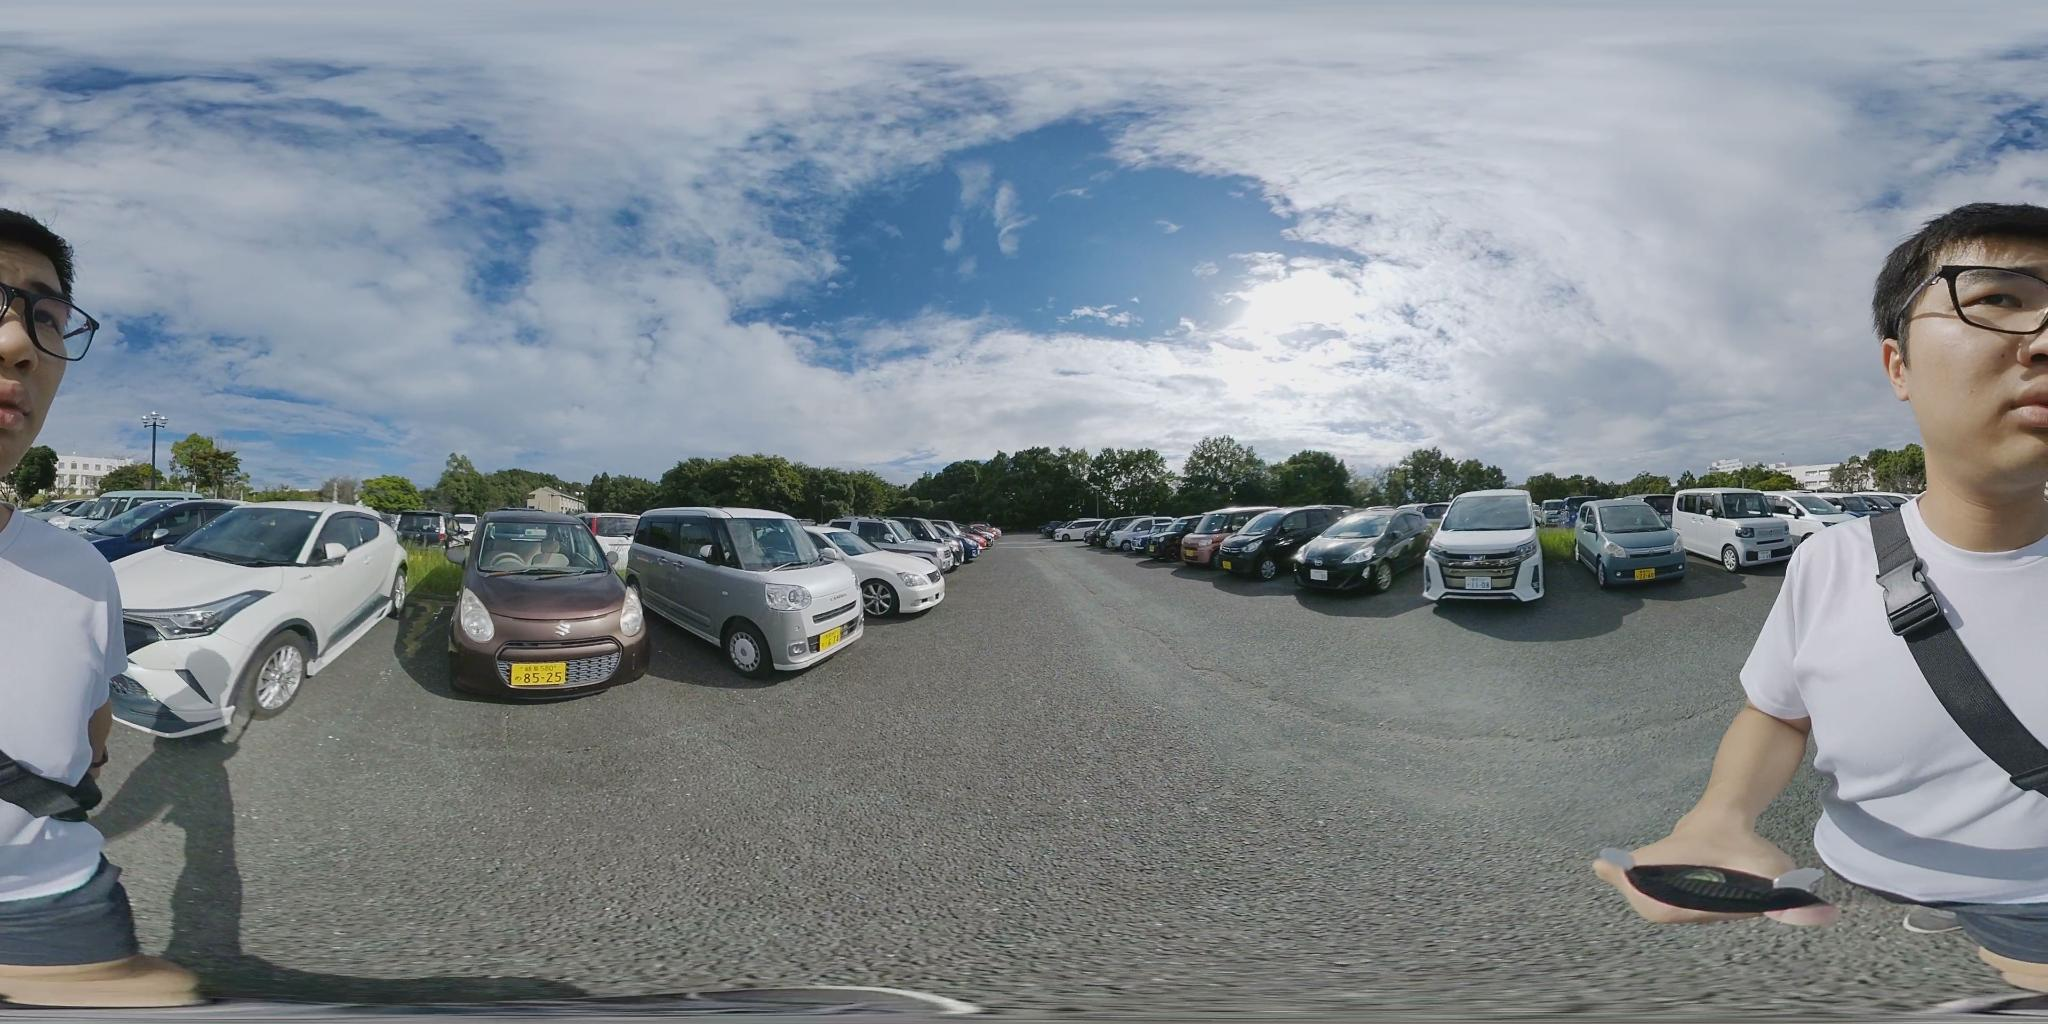car: (93, 500, 411, 738), (404, 509, 653, 701), (618, 508, 876, 680), (818, 520, 967, 614), (1664, 487, 1831, 568), (1292, 508, 1446, 593), (1428, 495, 1545, 600), (51, 494, 242, 555), (1553, 500, 1686, 586), (1219, 508, 1353, 580), (1775, 494, 1906, 526), (1174, 515, 1251, 566), (1109, 516, 1195, 552), (1046, 520, 1112, 545)
